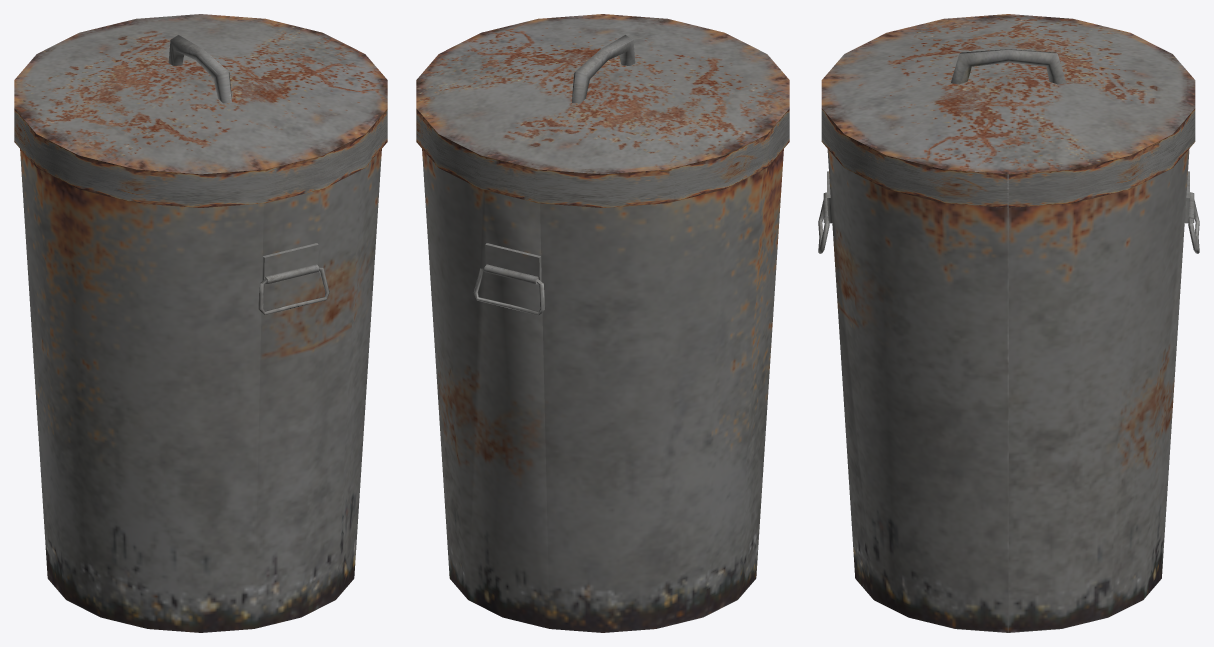
Rendered from realistic_trash_can_damaged_lowpoly_free.glb.
3 views of the same model, side by side, from view 1: azimuth 30°, elevation 25°; view 2: azimuth 150°, elevation 25°; view 3: azimuth 270°, elevation 25° (orthographic).
Visible parts, largest first — view 1: lata, tampa, object 2; view 2: lata, tampa, object 1; view 3: lata, tampa.
Part boxes in pixels (<box>): lata: <box>20,149,381,632</box>; tampa: <box>14,14,387,207</box>; object 2: <box>258,264,329,315</box>; lata: <box>422,149,783,632</box>; tampa: <box>416,14,789,207</box>; object 1: <box>474,264,545,315</box>; lata: <box>827,149,1189,632</box>; tampa: <box>821,14,1195,207</box>.
Bounding box in the file's own units: 102 × 154 × 103.
1 material, 1 textured.
